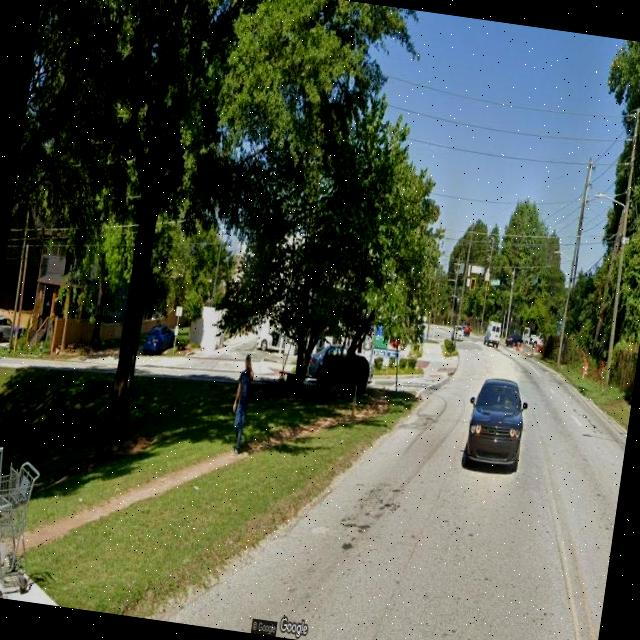seating: (0, 442, 19, 597)
